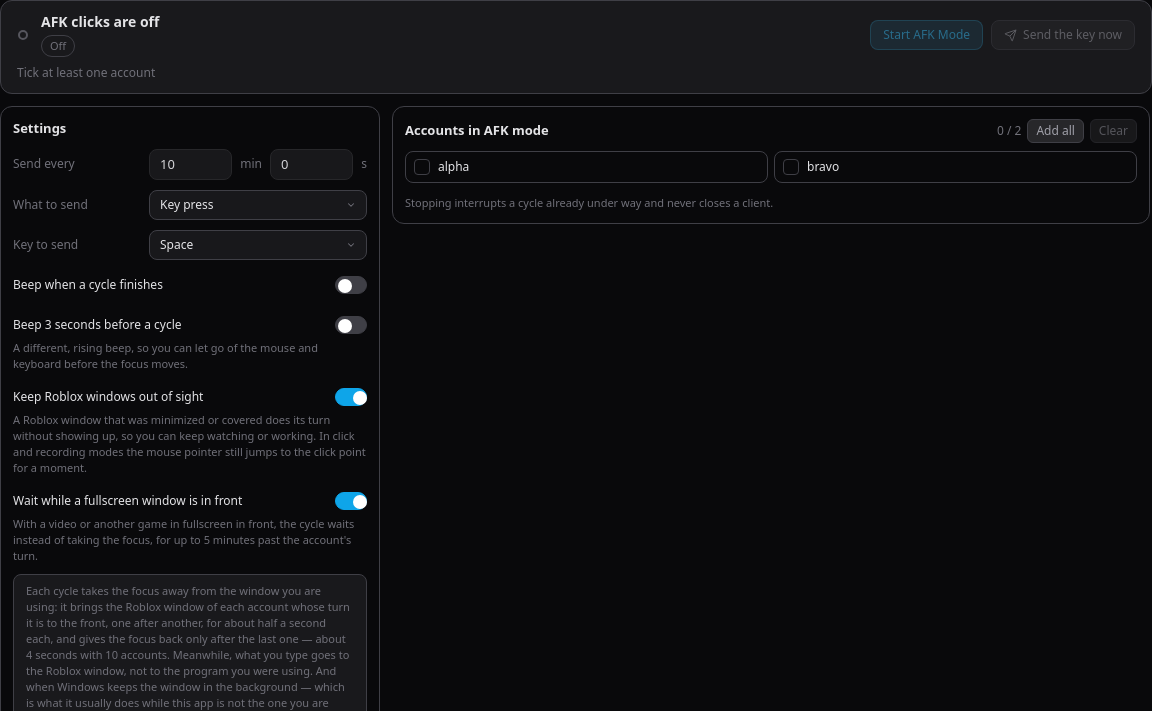
Test case: ClicksTab — intervalo em minutos e segundos › os segundos vão de 0 a 59 e os minutos de 0 a 120
Replace the text in the field named "Send every: seconds" with "75" at [312, 164], box [270,148,353,180]
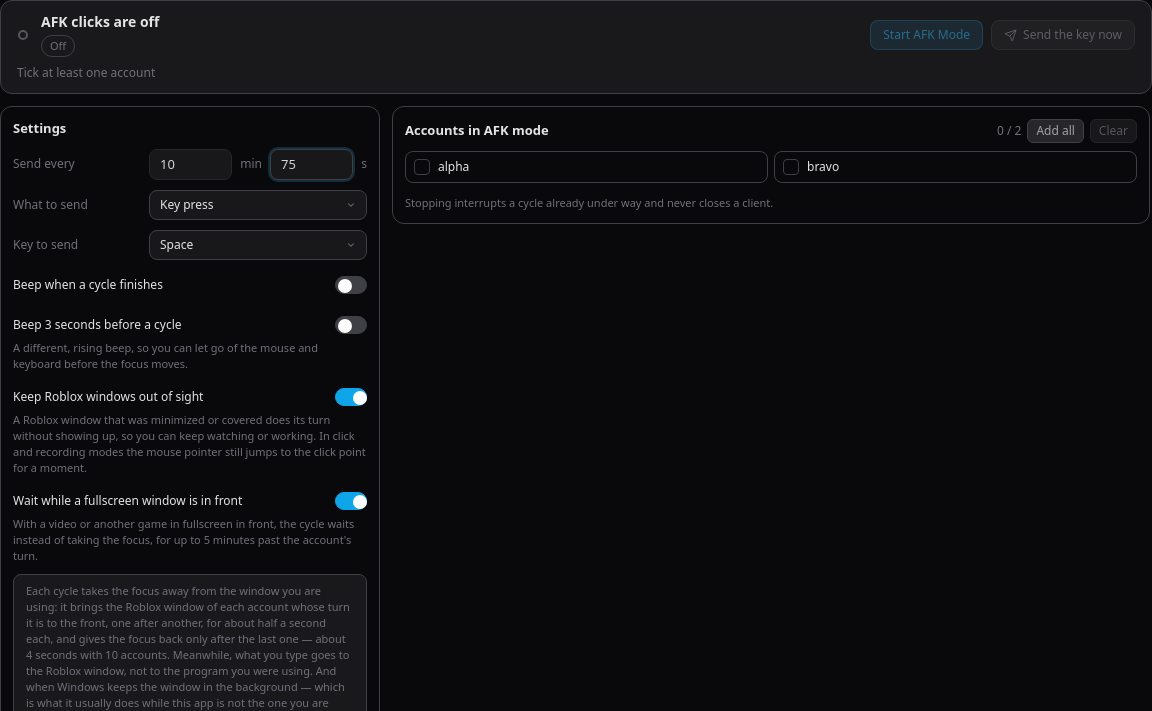
Press Tab
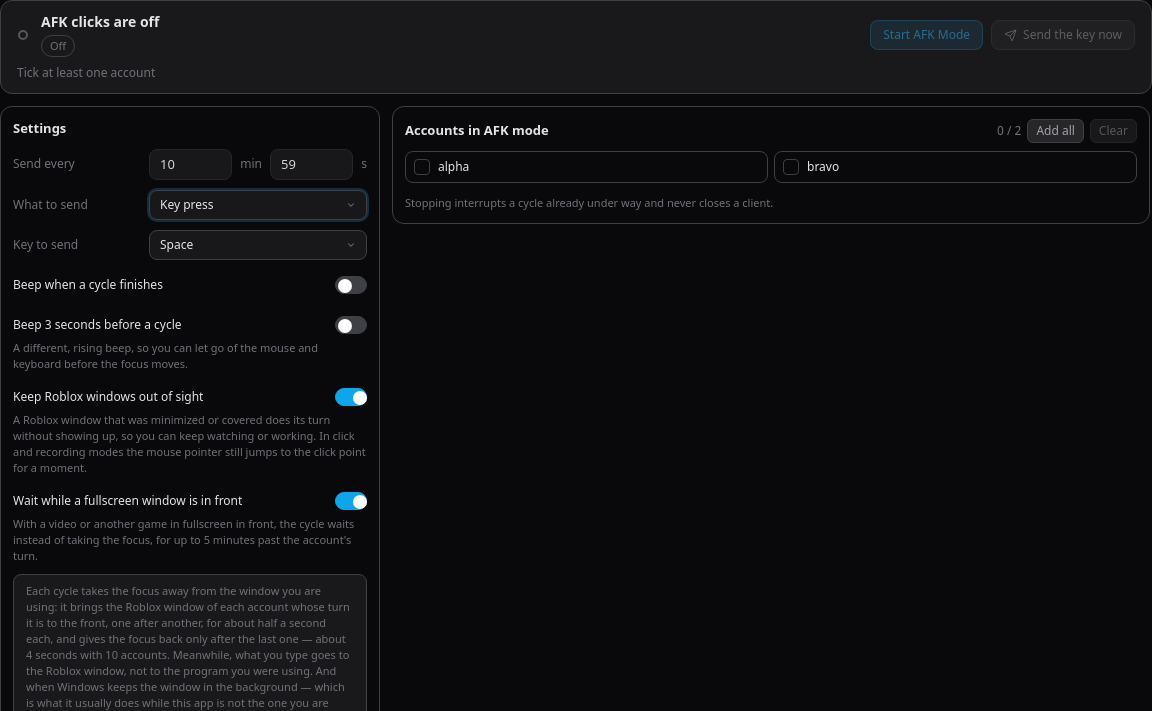
Expected: the field named "Send every: seconds" holds "59", [270,148,353,180]
Replace the text in the field named "Send every: minutes" with "500" at [191, 164], box [149,148,232,180]
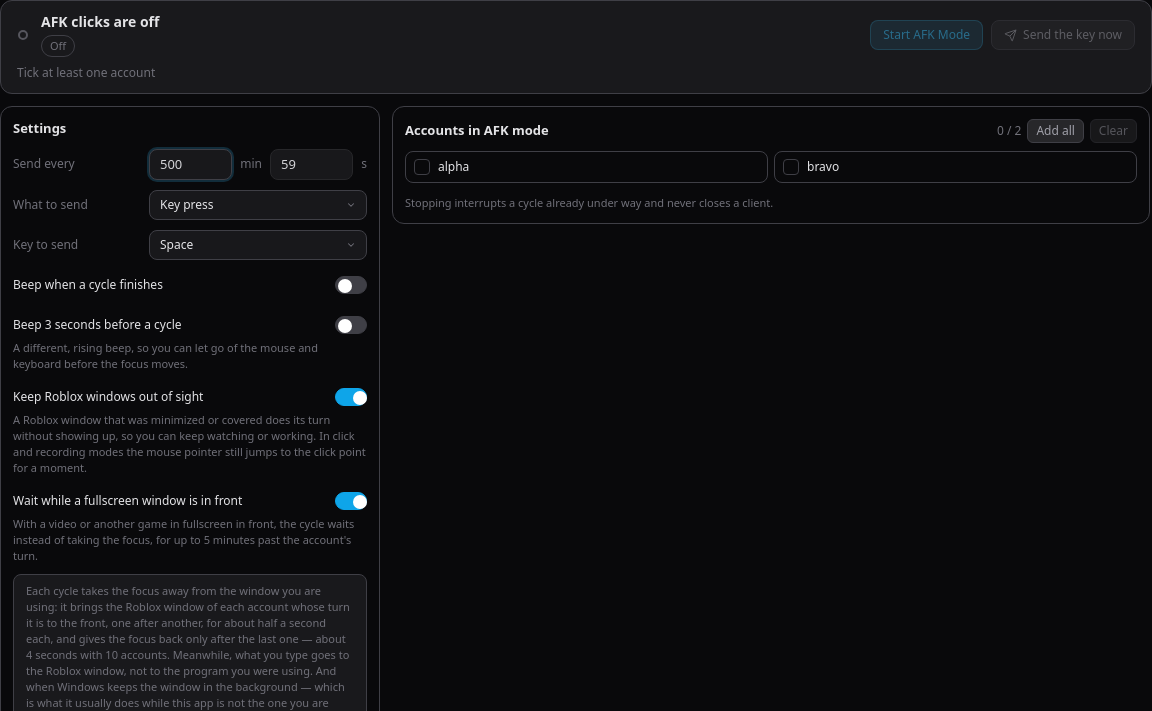
Press Tab
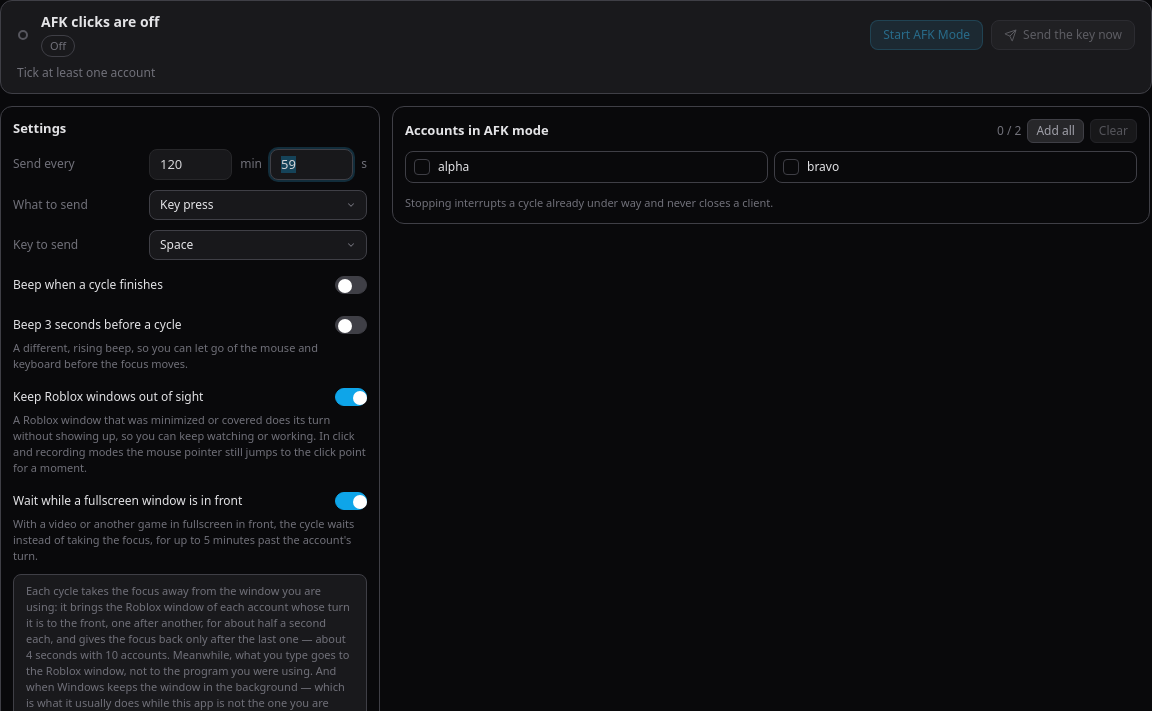
Expected: the field named "Send every: minutes" holds "120", [149,148,232,180]
